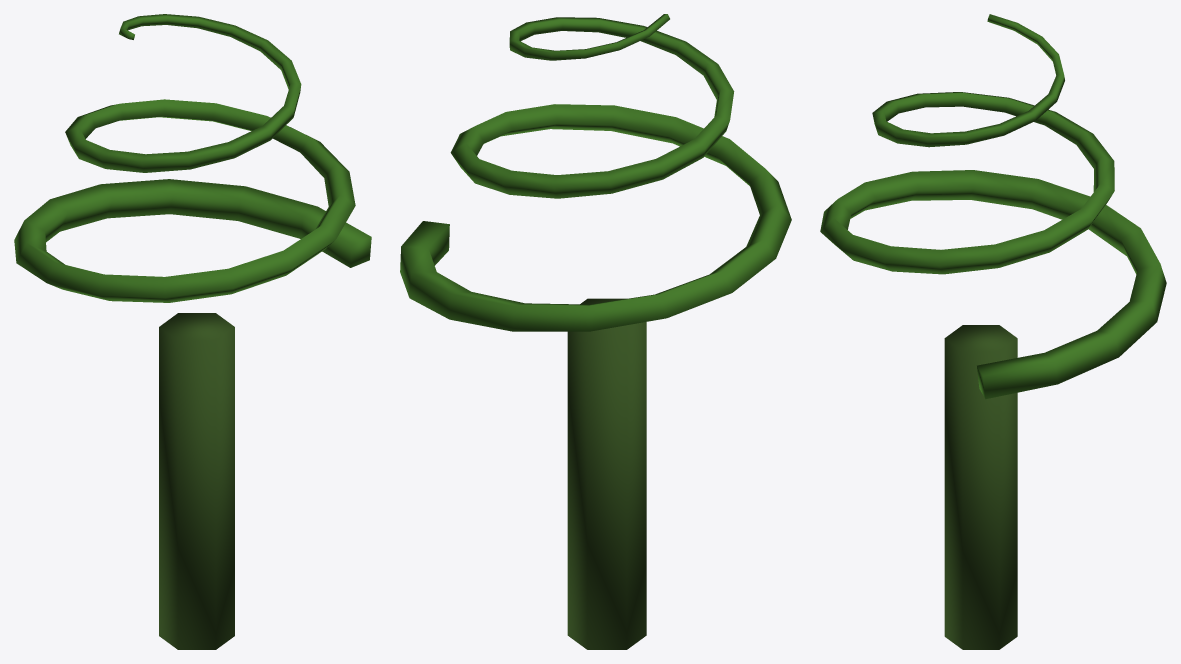
The model's file is snapthorn.glb.
The picture shows the model from 3 angles, left to right: view 1: azimuth 30°, elevation 25°; view 2: azimuth 150°, elevation 25°; view 3: azimuth 270°, elevation 25°; orthographic projection. The views are drawn at different scales.
Visible parts, largest first — view 1: snapthorn_v0; view 2: snapthorn_v0; view 3: snapthorn_v0.
Part boxes in pixels (x1,y1,x2,y2): snapthorn_v0: (14, 14, 371, 649); snapthorn_v0: (400, 14, 791, 649); snapthorn_v0: (820, 14, 1166, 649).
Size of the model in its own units: 0.2022 by 0.3579 by 0.1896.
